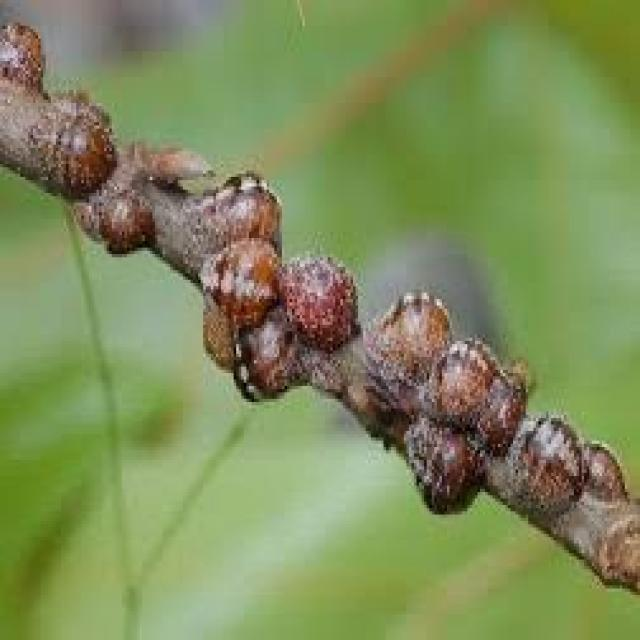Black Scale: (363, 293, 537, 520), (198, 174, 358, 408), (510, 415, 627, 550), (28, 90, 114, 196), (95, 190, 152, 259), (0, 23, 48, 95)
